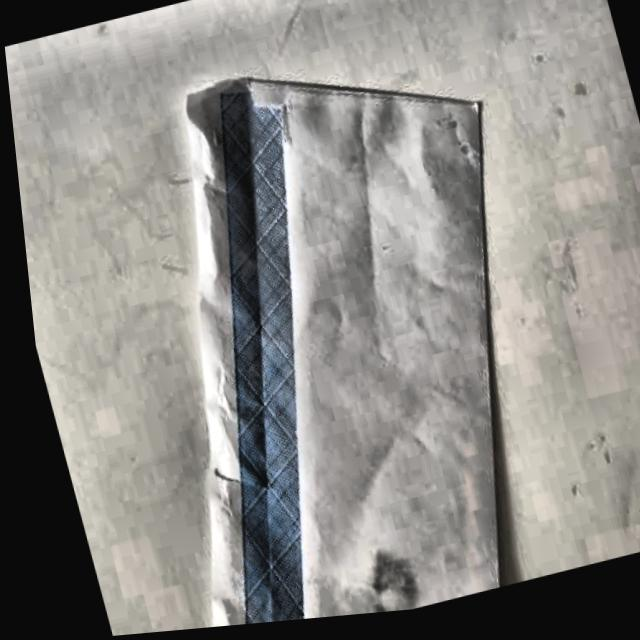Paper: (54, 8, 600, 637)
